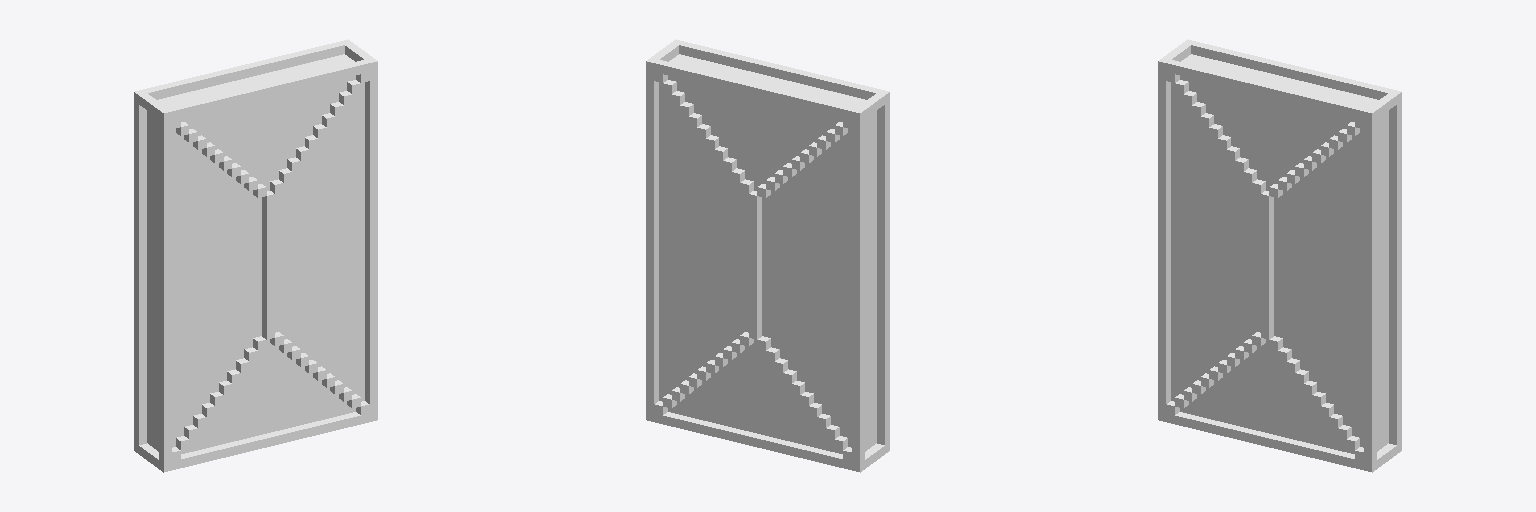
File: metaldoornoLights.obj
The picture shows the model from 3 angles: view 1: azimuth 30°, elevation 25°; view 2: azimuth 150°, elevation 25°; view 3: azimuth 330°, elevation 25°; orthographic projection.
Parts seen in each view (by area): view 1: object 1; view 2: object 1; view 3: object 1.
Boxes of the visible parts, x1,y1,x2,y2 form: object 1: [134, 39, 377, 472]; object 1: [646, 39, 889, 472]; object 1: [1158, 39, 1401, 472].
Size of the model in its own units: 2.5 by 4 by 0.6.